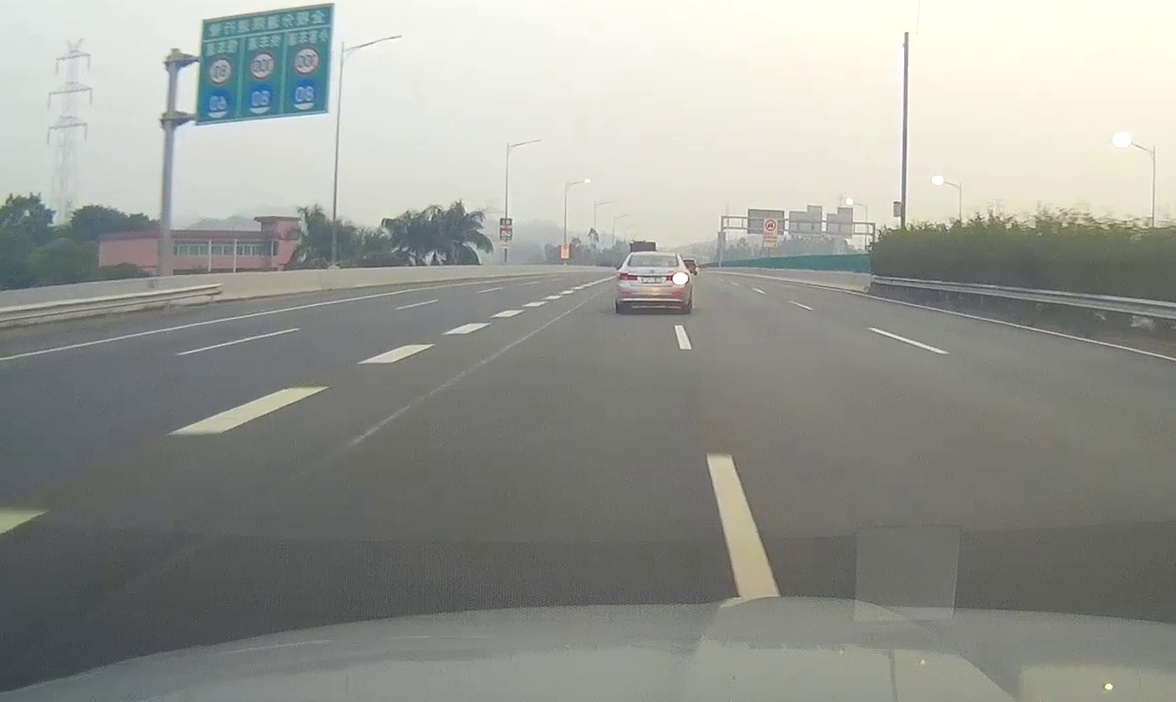L_light: (618, 272, 637, 280)
R_light: (666, 273, 688, 282)
T_light: (648, 255, 658, 258)
day-right: (616, 252, 689, 313)
